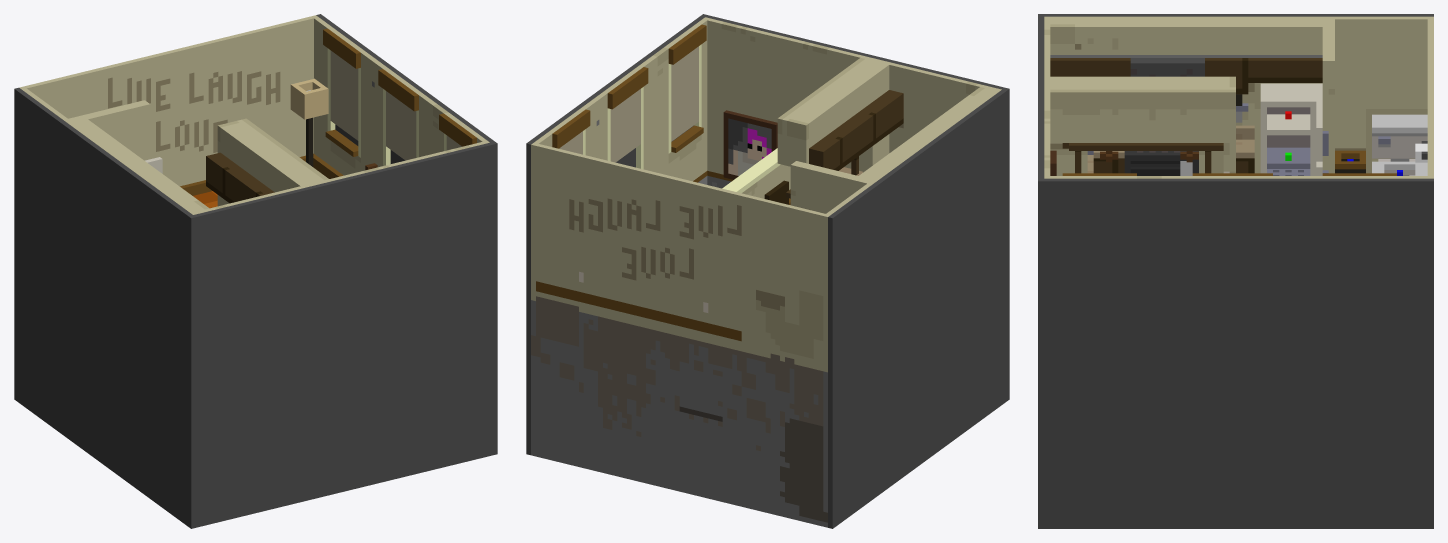
The model's file is apt-11.obj.
3 views of the same model, side by side, from view 1: azimuth 30°, elevation 25°; view 2: azimuth 150°, elevation 25°; view 3: azimuth 270°, elevation 25° (orthographic). The views are drawn at different scales.
Bounding box in the file's own units: 6.4 × 6.2 × 6.4.
1 material, 1 textured.
